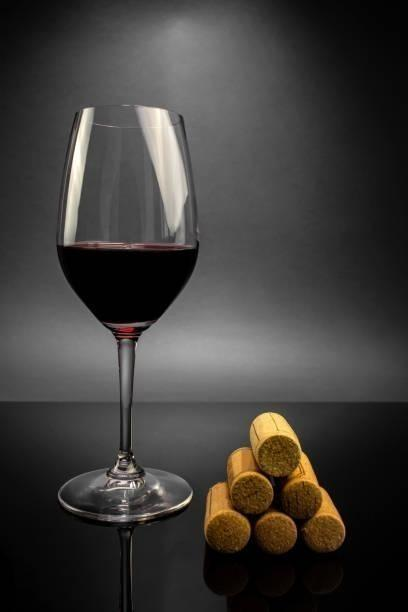glass-wine: (53, 102, 200, 525)
